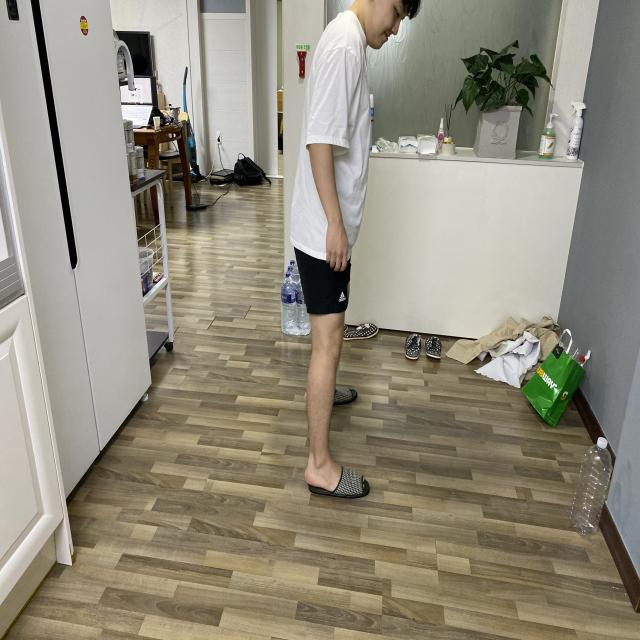no-boots: (295, 444, 375, 515)
